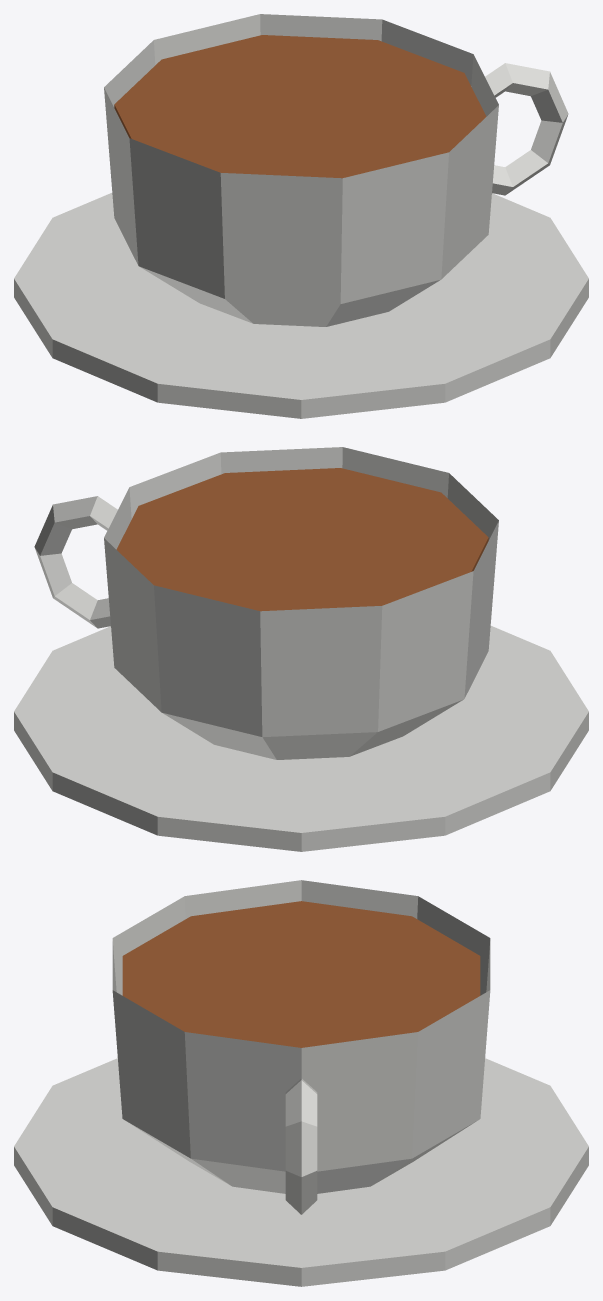
File: Food_TeaCup.obj
3 views of the same model, one above another, from view 1: azimuth 30°, elevation 25°; view 2: azimuth 150°, elevation 25°; view 3: azimuth 270°, elevation 25° (orthographic).
Size of the model in its own units: 2.28 by 0.85 by 2.2.
